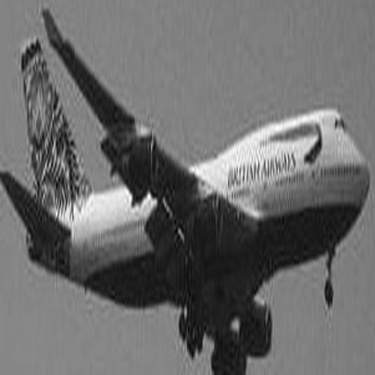airplane: (1, 9, 370, 372)
